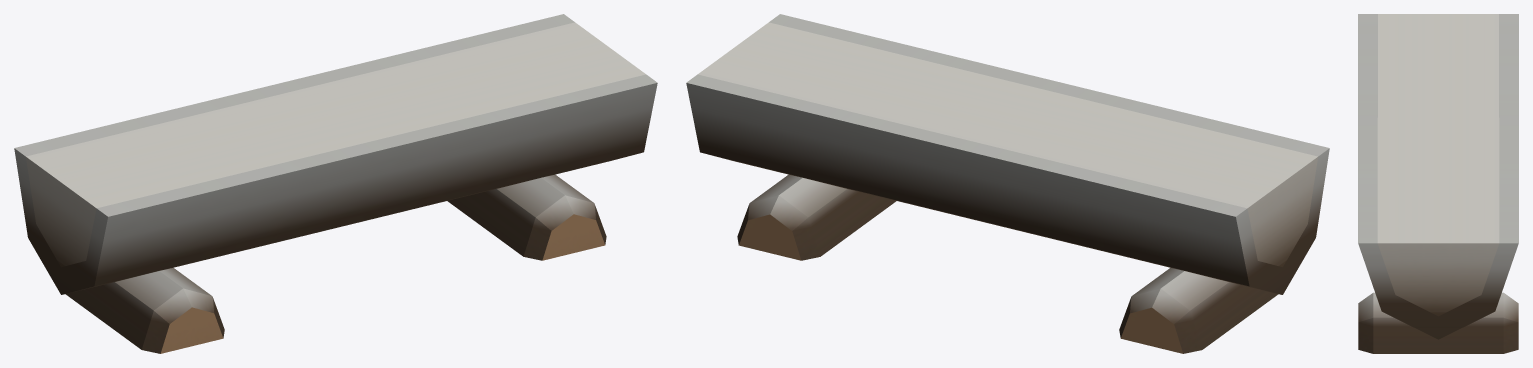
The model's file is Wood_Bench_B_Snow.obj.
3 views of the same model, side by side, from view 1: azimuth 30°, elevation 25°; view 2: azimuth 150°, elevation 25°; view 3: azimuth 270°, elevation 25° (orthographic). The views are drawn at different scales.
Parts seen in each view (by area): view 1: Wood_Bench_B_Snow; view 2: Wood_Bench_B_Snow; view 3: Wood_Bench_B_Snow.
Part boxes in pixels (bbox=[...]): Wood_Bench_B_Snow: bbox=[14, 14, 657, 353]; Wood_Bench_B_Snow: bbox=[686, 14, 1329, 353]; Wood_Bench_B_Snow: bbox=[1358, 14, 1518, 353].
Size of the model in its own units: 1.53 by 0.399 by 0.4531.
